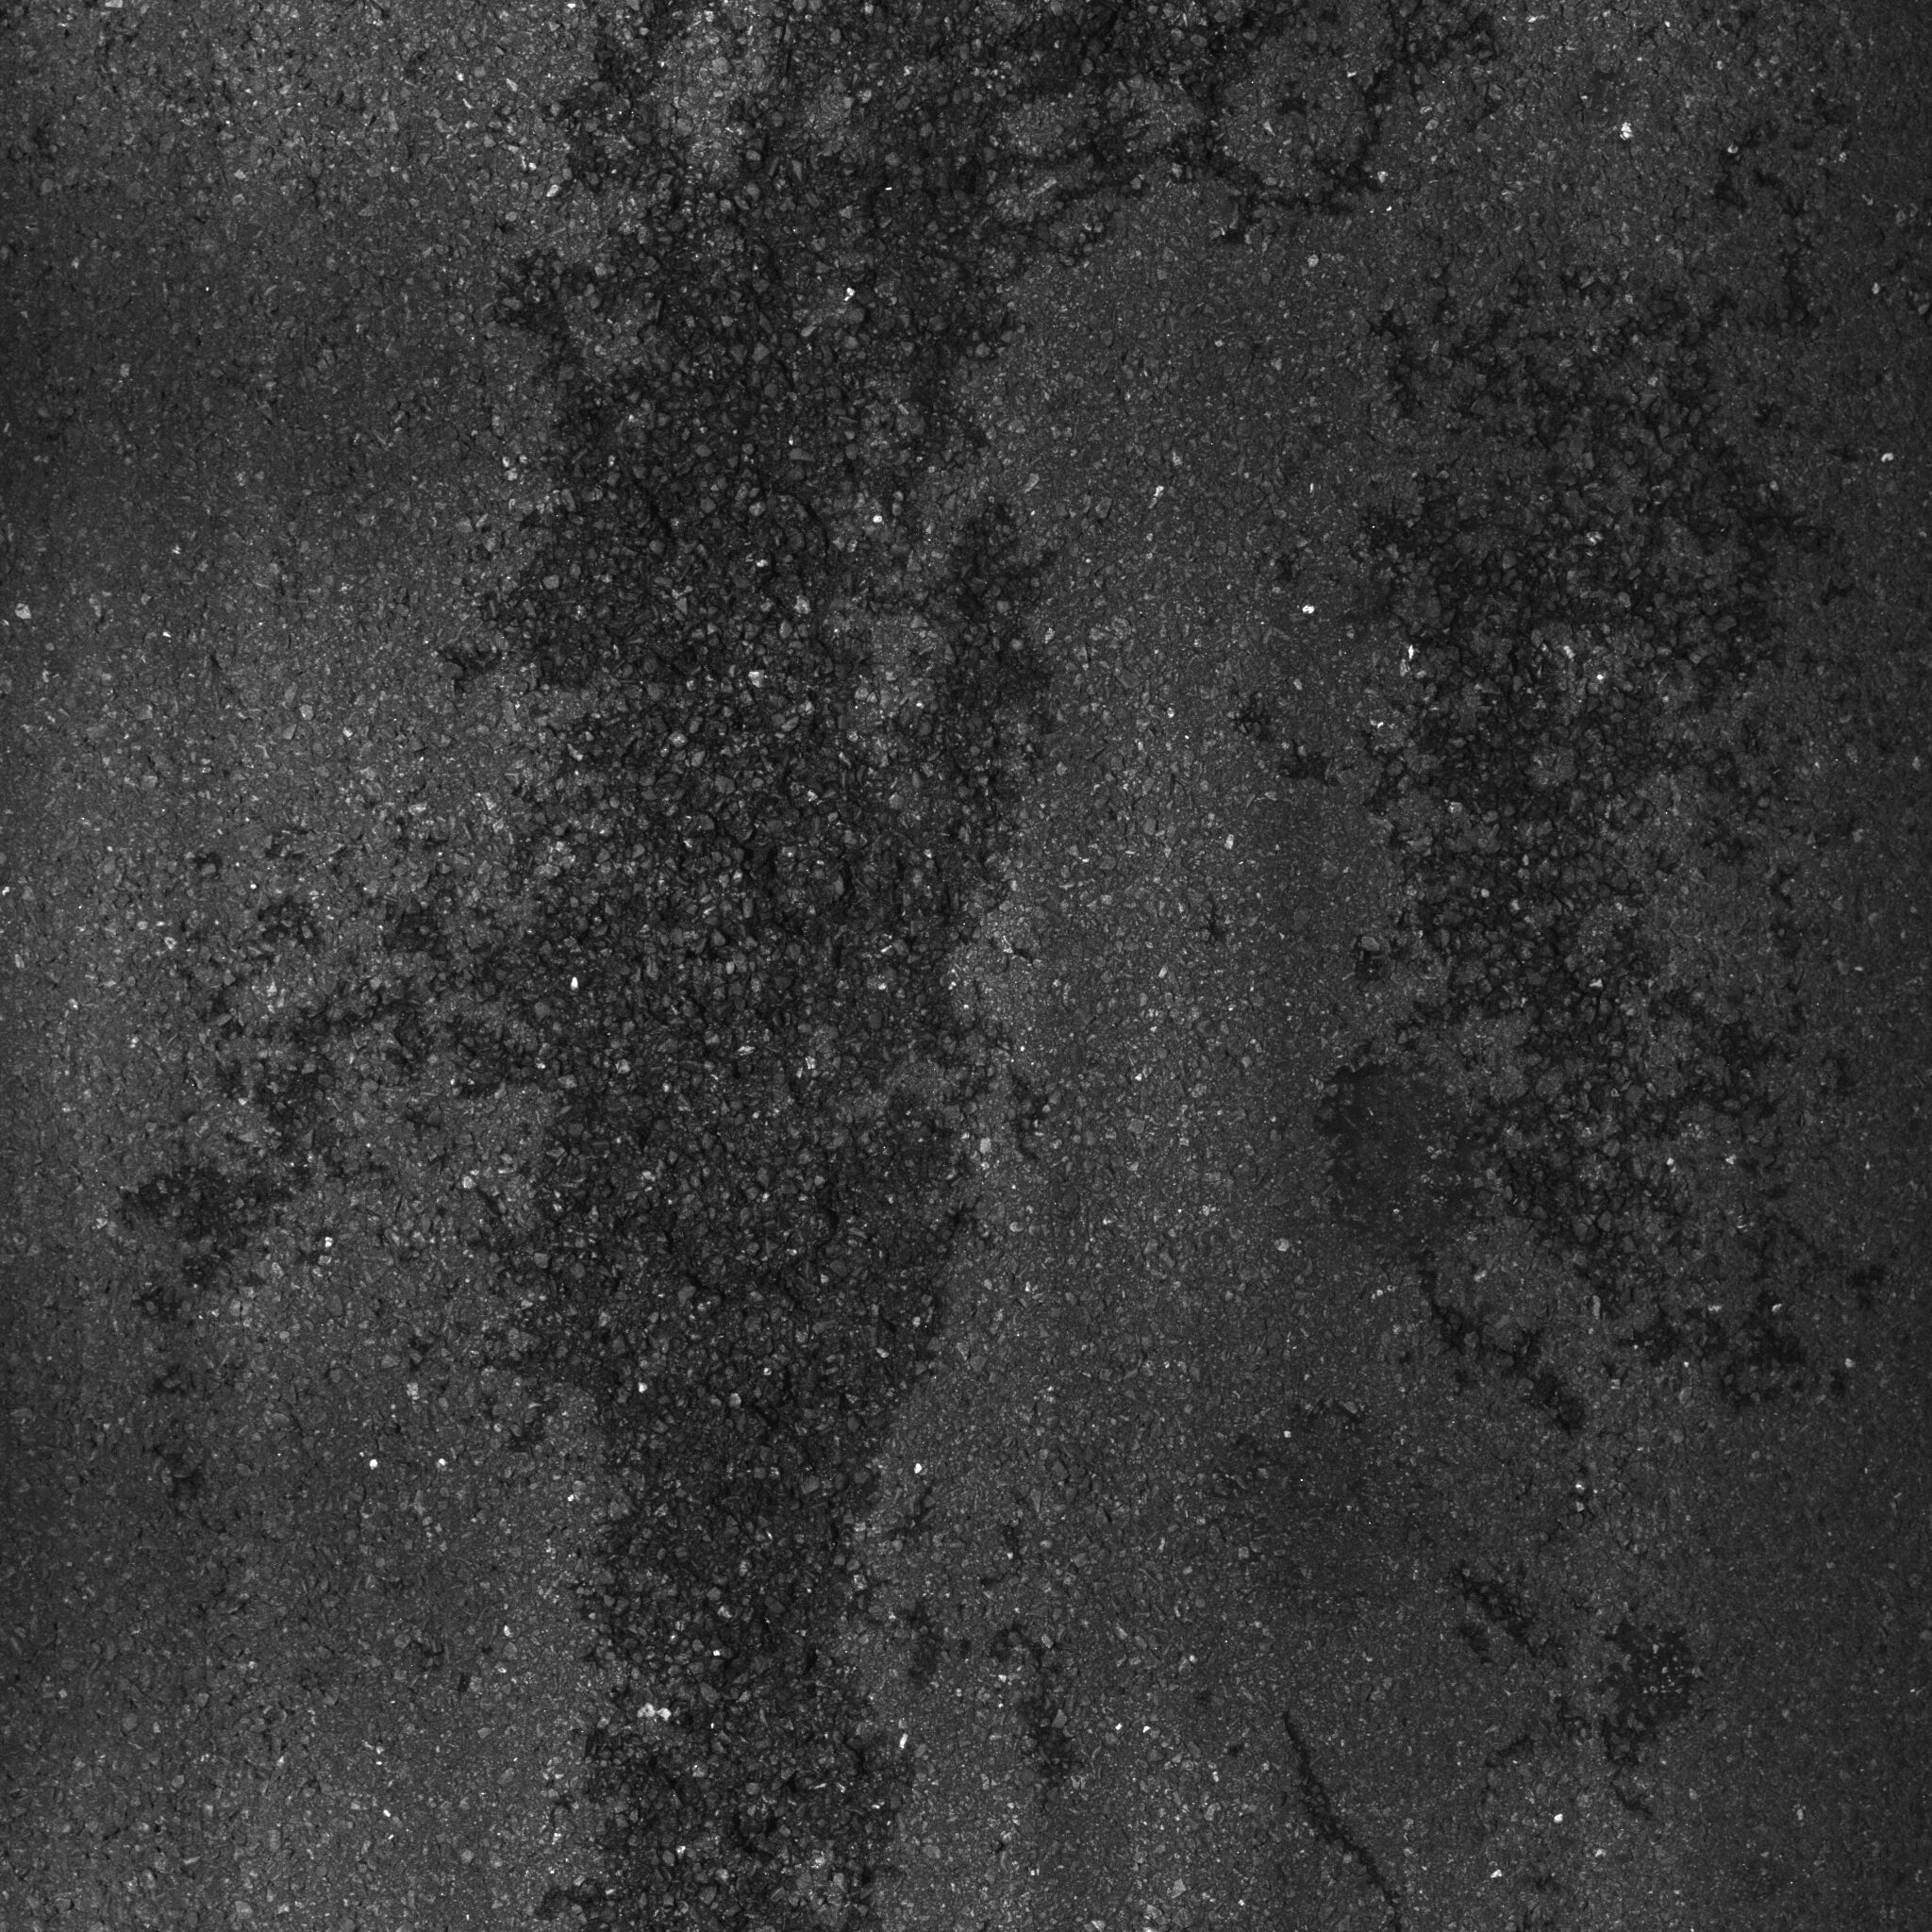alligator: (331, 2, 1323, 1925), (1325, 303, 1879, 1428)
